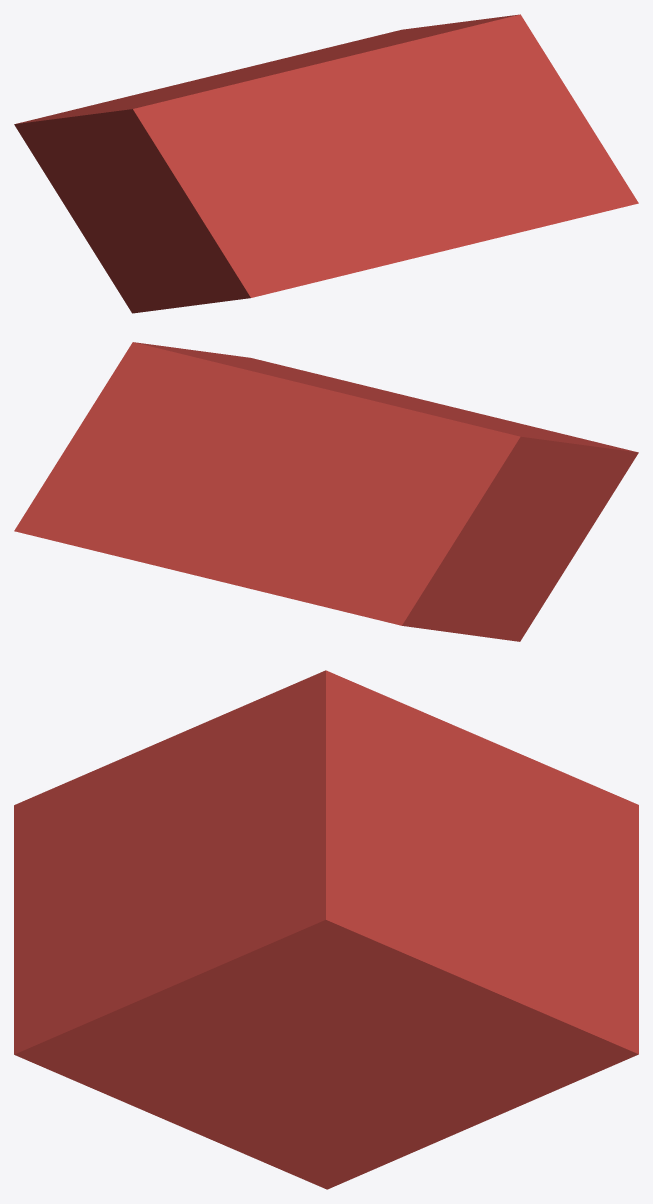
The model's file is alu_top_lod2.glb.
The picture shows the model from 3 angles, top to bottom: view 1: azimuth 30°, elevation 25°; view 2: azimuth 150°, elevation 25°; view 3: azimuth 270°, elevation 25°; orthographic projection. The views are drawn at different scales.
Parts seen in each view (by area): view 1: alu_top_lod2; view 2: alu_top_lod2; view 3: alu_top_lod2.
Boxes of the visible parts, x1=… form: alu_top_lod2: x1=14, y1=14, x2=638, y2=313; alu_top_lod2: x1=14, y1=342, x2=638, y2=641; alu_top_lod2: x1=14, y1=670, x2=638, y2=1189.
Bounding box in the file's own units: 0.34 × 0.1716 × 0.36.
